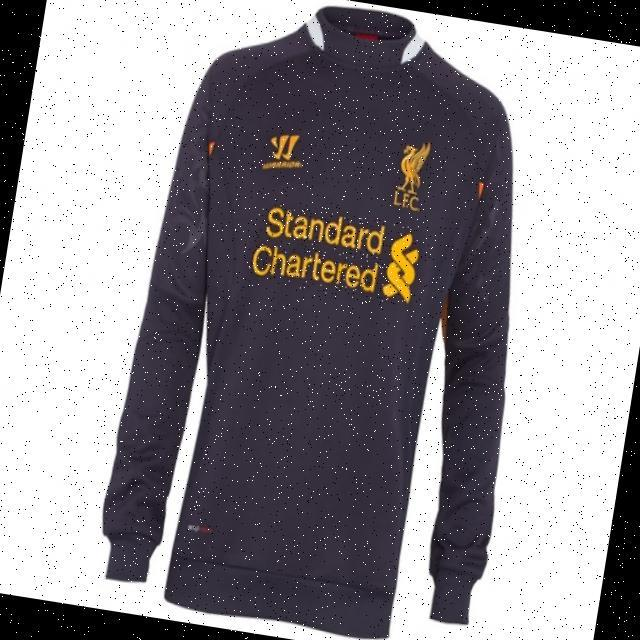Standard Chartered: (247, 201, 423, 307)
